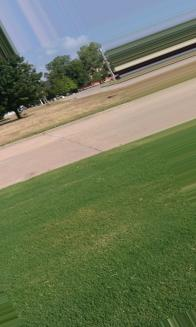patch: (80, 211, 106, 245)
